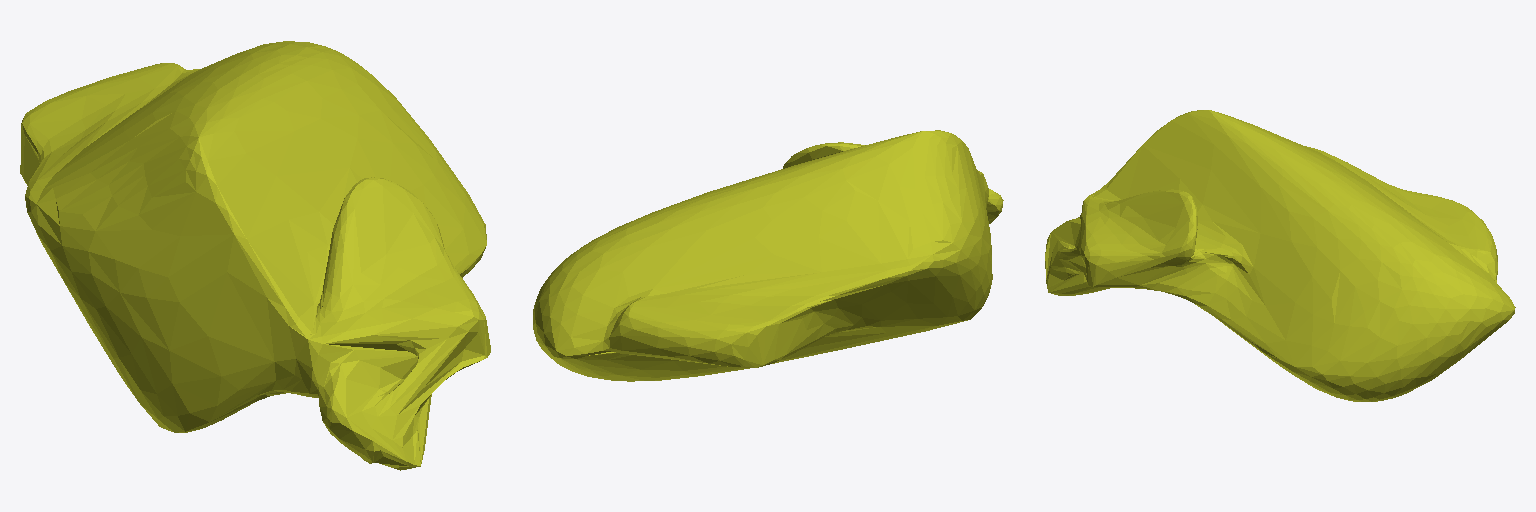
URDF robot description (blob530):

<robot name="blob530">
  <link name="random_obj_530">
    <contact>
      <lateral_friction value="1.0"/>
      <rolling_friction value="0.0"/>
      <inertia_scaling value="3.0"/>
      <contact_cfm value="0.0"/>
      <contact_erp value="1.0"/>
    </contact>
    <inertial>
      <origin rpy="0 0 0" xyz="0 0 0"/>
      <mass value="0.0992"/>
      <inertia ixx="1" ixy="0" ixz="0" iyy="1" iyz="0" izz="0"/>
    </inertial>
    <visual>
      <origin rpy="0 0 0" xyz="0 0 0"/>
      <geometry>
        <mesh filename="530.obj" scale="0.0085 0.0085 0.0085"/>
      </geometry>
      <material name="blockmat">
        <color rgba="0.75 0.77 0.21 1"/>
      </material>
    </visual>
    <collision>
      <origin rpy="0 0 0" xyz="0 0 0"/>
      <geometry>
        <mesh filename="530_coll.obj" scale="0.0085 0.0085 0.0085"/>
      </geometry>
    </collision>
  </link>
</robot>

--- Render facts (derived) ---
The picture shows the robot from 3 angles, left to right: view 1: azimuth 30°, elevation 25°; view 2: azimuth 150°, elevation 25°; view 3: azimuth 270°, elevation 25°; orthographic projection.
Robot: blob530 — 1 links, 0 joints (none); root link random_obj_530; default pose: all joints at 0.
Visible links, largest first — view 1: random_obj_530; view 2: random_obj_530; view 3: random_obj_530.
Link boxes in pixels (left/top/right/bottom): random_obj_530: left=20, top=41, right=490, bottom=470; random_obj_530: left=533, top=130, right=1003, bottom=381; random_obj_530: left=1045, top=110, right=1515, bottom=401.
Size in the robot's own frame: 0.0839 by 0.1154 by 0.0532 metres.
Meshes: 1 distinct files referenced, 1 mesh visuals loaded (1 OBJ).
